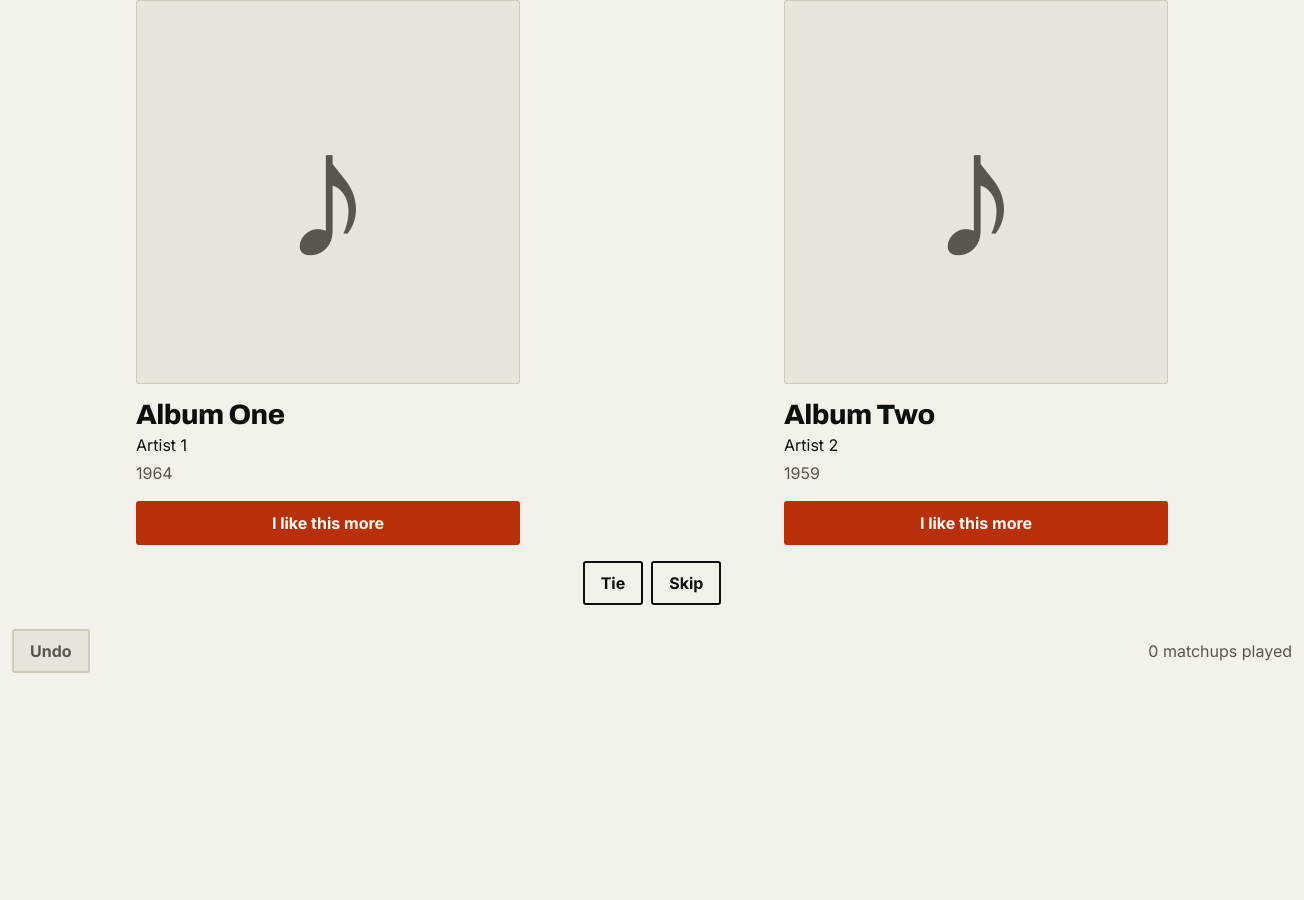
Test: matchup screen › shows an error and keeps the current pair when an action fails
Click the button "Tie": [613, 583] box [583,561,643,605]
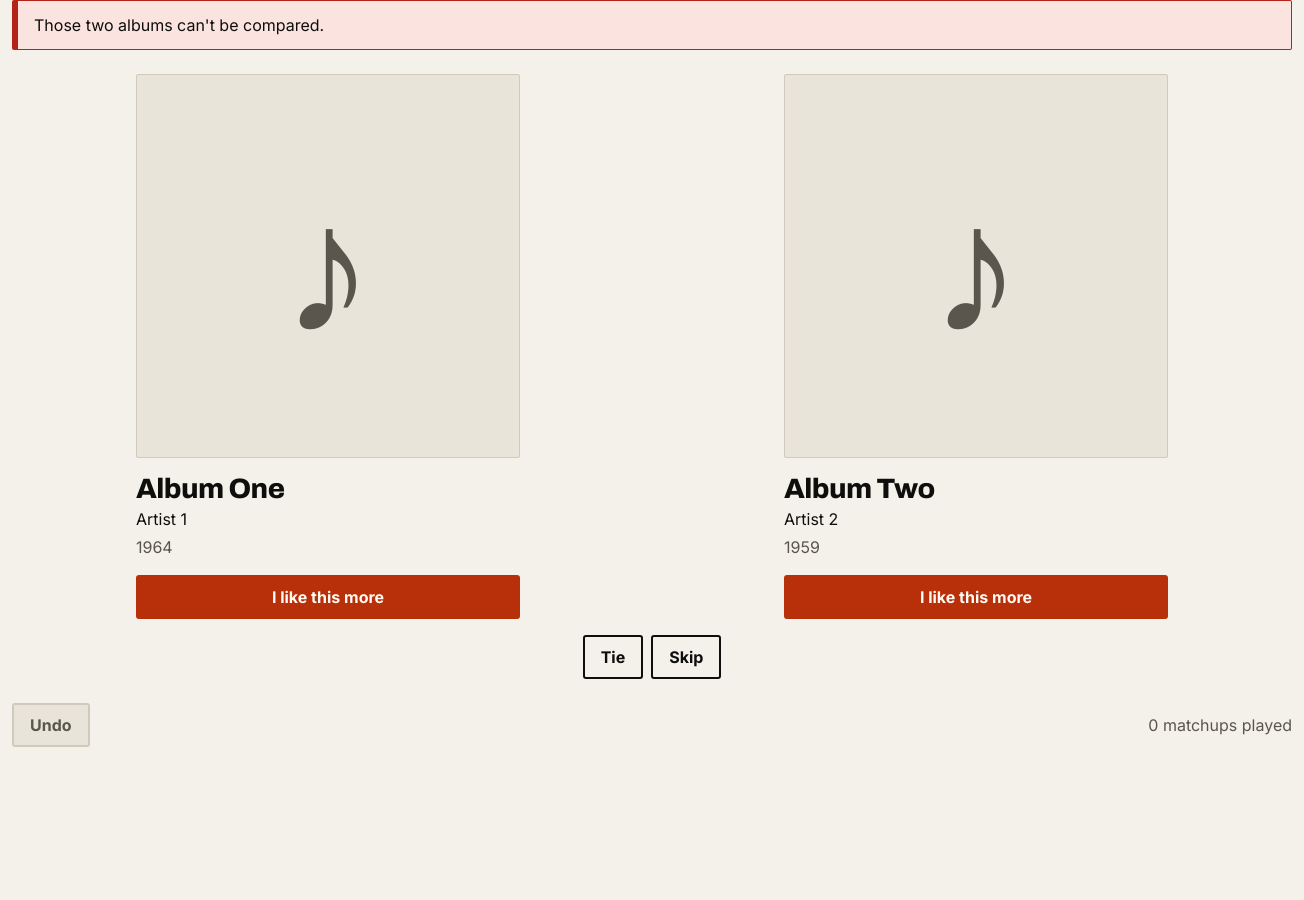
Expected: the text "Album One" is shown, [136,473,284,504]
Expected: the message reads "Those two albums can't be compared.", [34,15,324,35]
